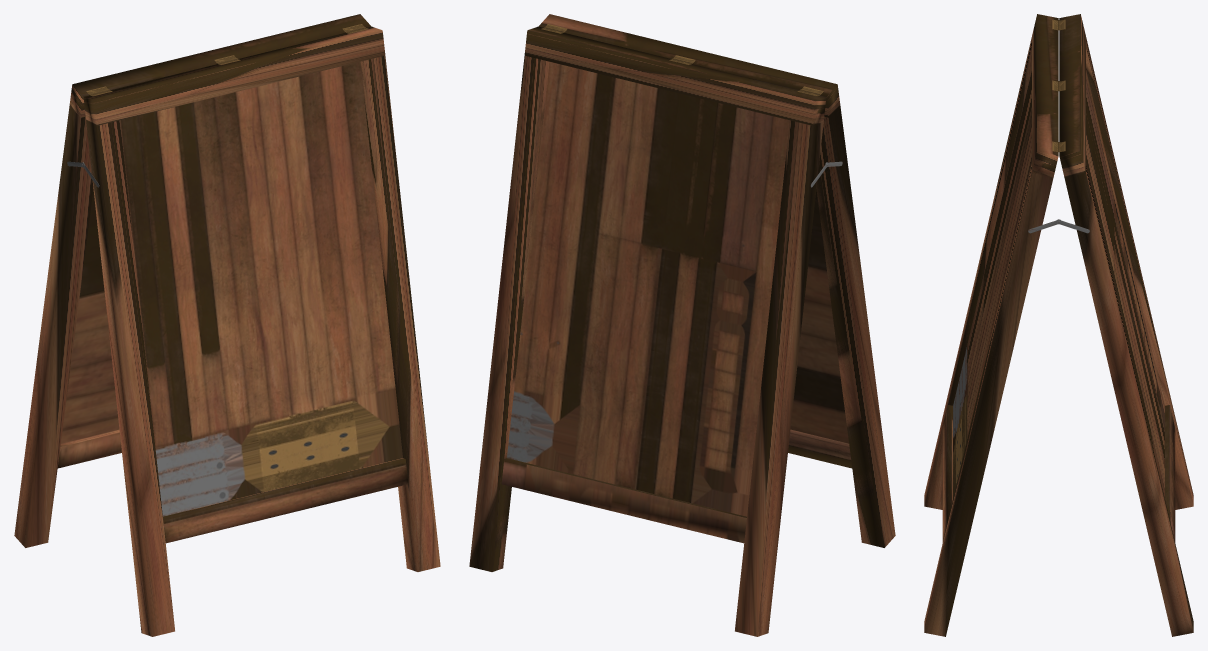
The model's file is standing_chalkboard_01.glb.
The picture shows the model from 3 angles, left to right: view 1: azimuth 30°, elevation 25°; view 2: azimuth 150°, elevation 25°; view 3: azimuth 270°, elevation 25°; orthographic projection. The views are drawn at different scales.
Visible parts, largest first — view 1: standing_chalkboard_01; view 2: standing_chalkboard_01; view 3: standing_chalkboard_01.
Part boxes in pixels (left/top/right/bottom): standing_chalkboard_01: left=14, top=14, right=440, bottom=636; standing_chalkboard_01: left=469, top=14, right=895, bottom=636; standing_chalkboard_01: left=924, top=14, right=1193, bottom=636.
Size of the model in its own units: 0.9195 by 1.51 by 0.7587.
Materials: 1 (1 with a texture image).
